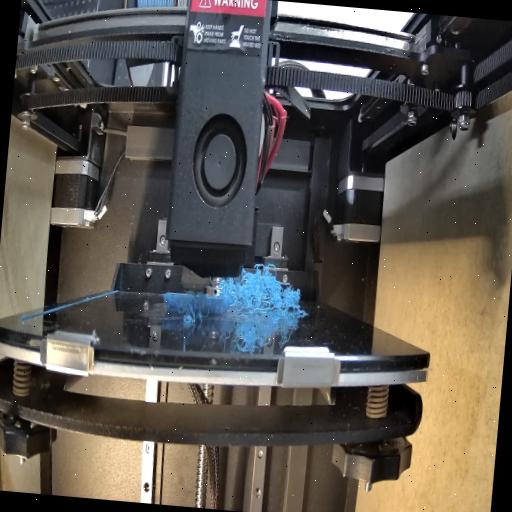spaghetti: (216, 270, 304, 320), (174, 290, 216, 334)
